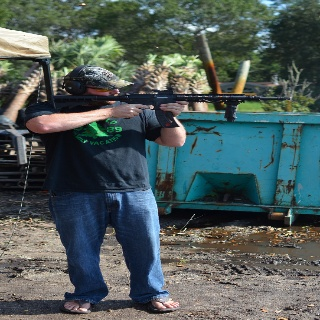rifle: (50, 90, 291, 130)
